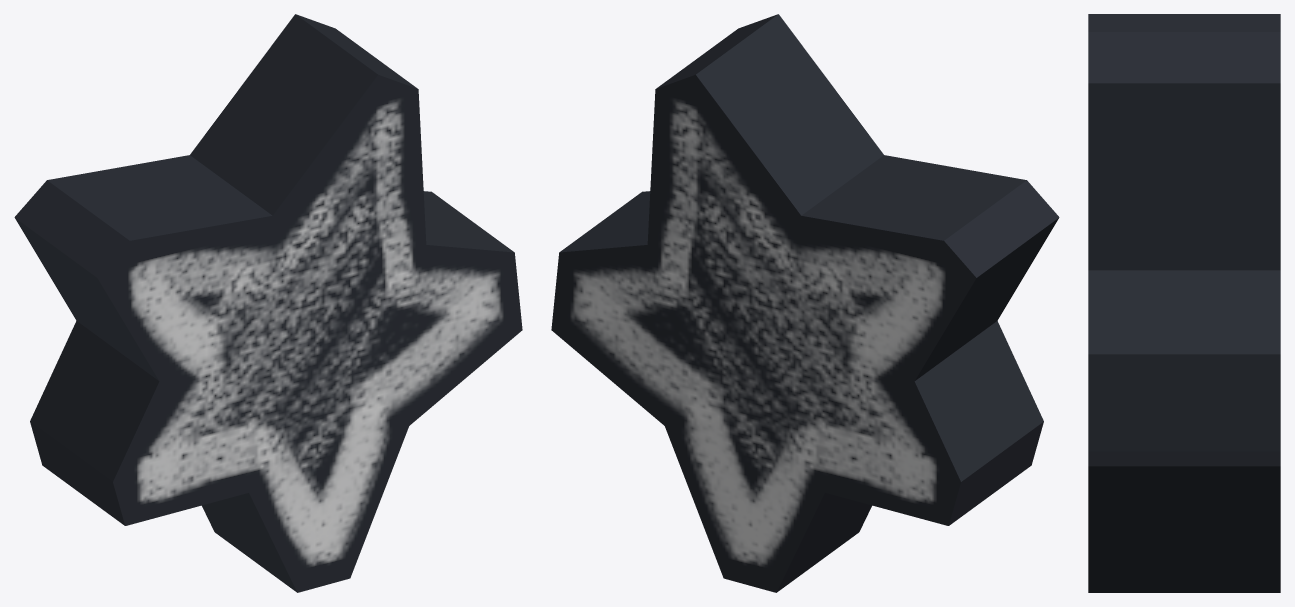
Rendered from Star4.fbx.
The picture shows the model from 3 angles, left to right: view 1: azimuth 30°, elevation 25°; view 2: azimuth 150°, elevation 25°; view 3: azimuth 270°, elevation 25°; orthographic projection. The views are drawn at different scales.
Visible parts, largest first — view 1: m_Star1; view 2: m_Star1; view 3: m_Star1.
Part boxes in pixels (x1=…): m_Star1: x1=14, y1=14, x2=522, y2=592; m_Star1: x1=551, y1=14, x2=1059, y2=592; m_Star1: x1=1088, y1=14, x2=1280, y2=592.
Size of the model in its own units: 0.296 by 0.3317 by 0.1.
